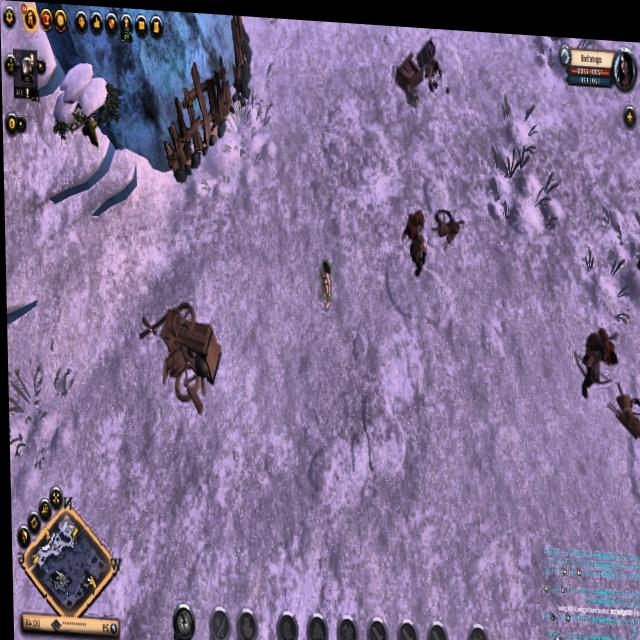mob: (574, 314, 617, 394), (398, 198, 428, 272), (417, 29, 445, 89)
